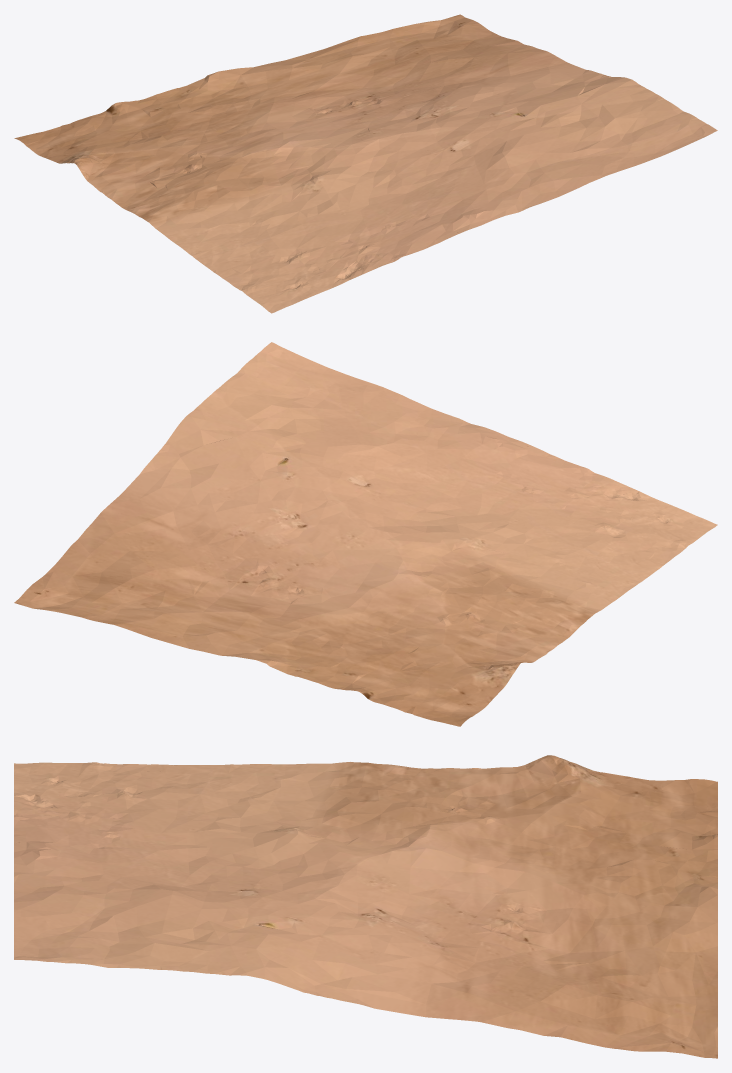
The picture shows the model from 3 angles, top to bottom: view 1: azimuth 30°, elevation 25°; view 2: azimuth 150°, elevation 25°; view 3: azimuth 270°, elevation 25°; orthographic projection. The views are drawn at different scales.
Size of the model in its own units: 2.09 by 0.3927 by 2.09.
Materials: 2 (2 with a texture image).
